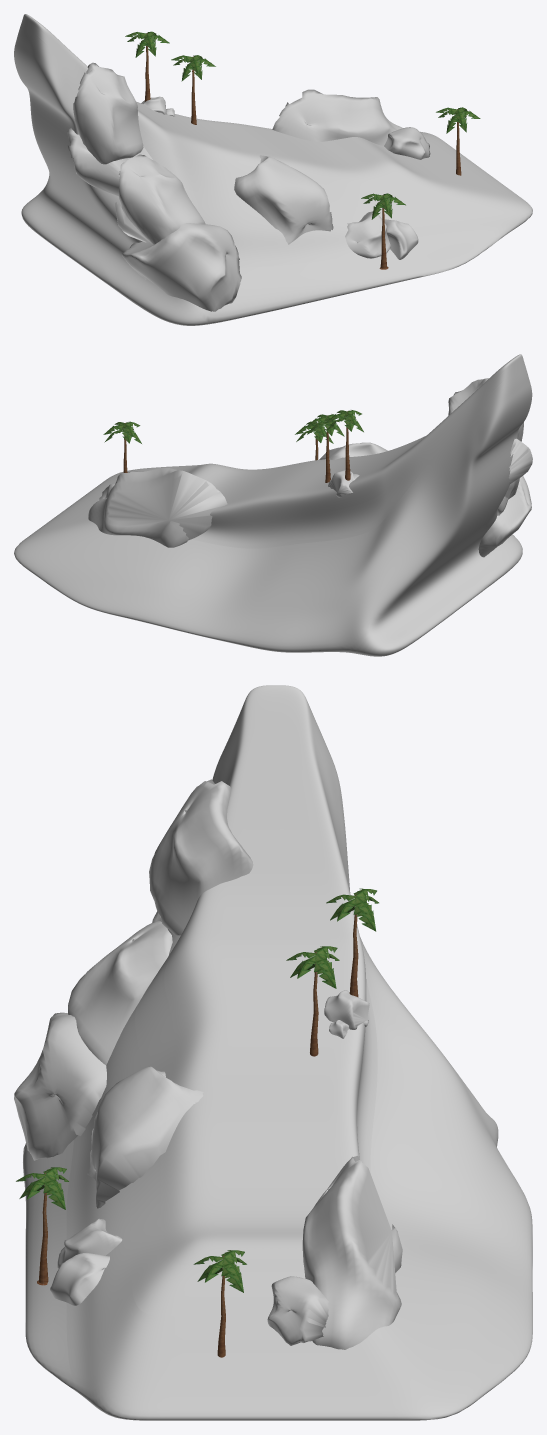
The model's file is large island right side.fbx.
The picture shows the model from 3 angles, top to bottom: view 1: azimuth 30°, elevation 25°; view 2: azimuth 150°, elevation 25°; view 3: azimuth 270°, elevation 25°; orthographic projection. The views are drawn at different scales.
Visible parts, largest first — view 1: big island, Medium rock.018, Medium rock.015, Medium rock.013, Medium rock.021, Medium rock.022, Medium rock.014, Medium rock.020, Medium rock.023, Medium rock.024, Trunk.001, Trunk.004 (+2 smaller); view 2: big island, Medium rock.022, Medium rock.018, Medium rock.014, Trunk.004, Medium rock.021, Trunk, Medium rock.013, Trunk.003, Medium rock.033, Trunk.001; view 3: big island, Medium rock.022, Medium rock.013, Medium rock.021, Medium rock.018, Medium rock.015, Medium rock.023, Medium rock.024, Trunk.001, Trunk, Trunk.004, Trunk.003 (+2 smaller).
Part boxes in pixels (x1,y1,x2,y2): big island: (14,14,532,325); Medium rock.018: (121,223,241,311); Medium rock.015: (115,154,205,244); Medium rock.013: (73,62,143,164); Medium rock.021: (234,155,333,244); Medium rock.022: (272,89,403,145); Medium rock.014: (67,128,152,196); Medium rock.020: (345,211,390,258); Medium rock.023: (384,127,430,159); Medium rock.024: (384,219,418,259); Trunk.001: (361,193,405,269); Trunk.004: (125,31,169,101); big island: (14,354,532,656); Medium rock.022: (88,468,227,547); Medium rock.018: (478,476,531,557); Medium rock.014: (508,438,532,483); Trunk.004: (325,410,363,480); Medium rock.021: (319,442,387,459); Trunk: (306,414,344,482); Medium rock.013: (448,378,523,441); Trunk.003: (103,421,141,472); Medium rock.033: (329,470,359,497); Trunk.001: (295,421,333,460); big island: (23,685,532,1420); Medium rock.022: (302,1156,402,1349); Medium rock.013: (149,779,253,935); Medium rock.021: (87,1066,203,1208); Medium rock.018: (14,1012,106,1160); Medium rock.015: (68,921,172,1065); Medium rock.023: (267,1276,328,1345); Medium rock.024: (50,1253,109,1305); Trunk.001: (16,1167,68,1285); Trunk: (286,946,339,1056); Trunk.004: (326,888,378,996); Trunk.003: (193,1250,246,1357).
Bounding box in the file's own units: 3862 × 2236 × 2514.
